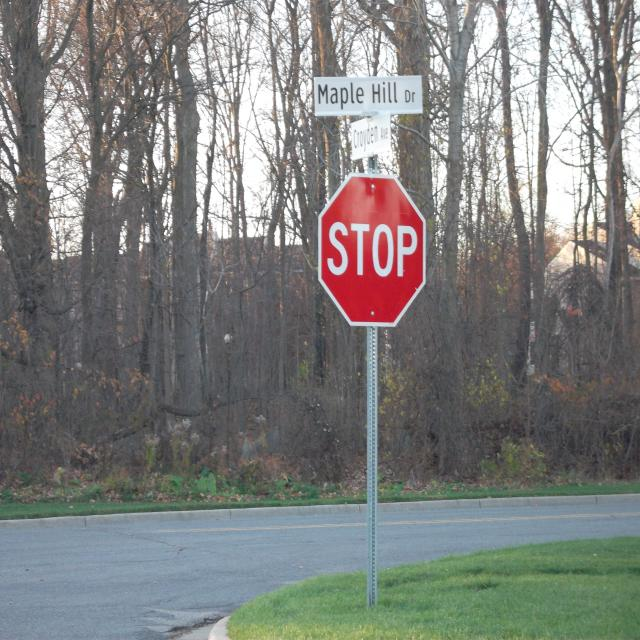stop: (314, 167, 430, 334)
